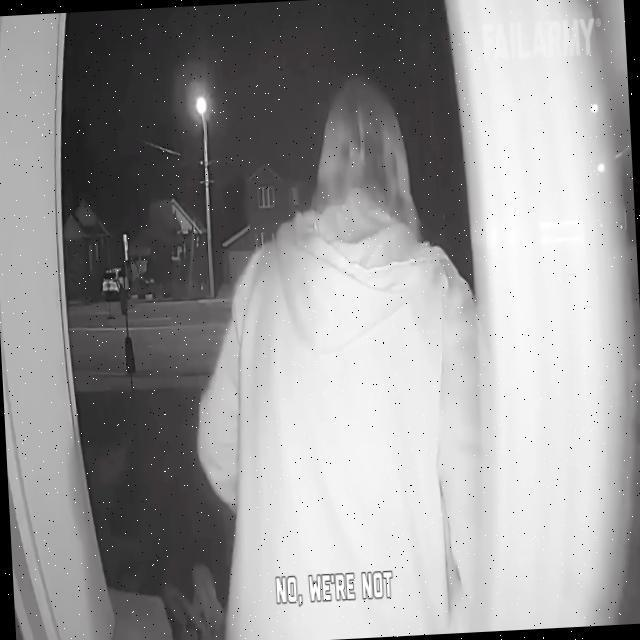person: (178, 78, 507, 640)
